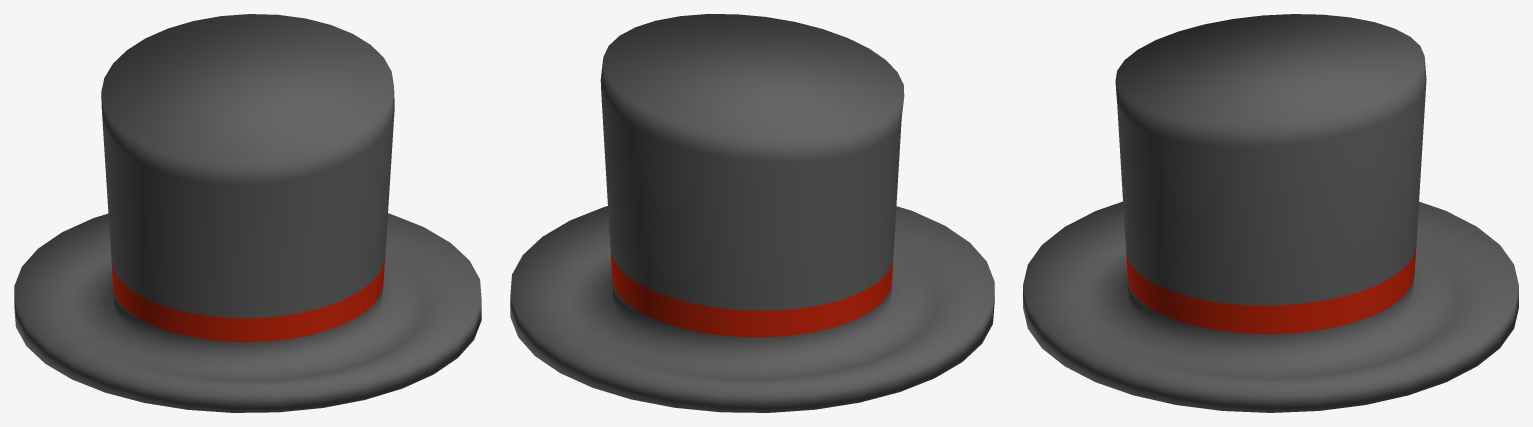
File: hat.fbx
The picture shows the model from 3 angles, left to right: view 1: azimuth 30°, elevation 25°; view 2: azimuth 150°, elevation 25°; view 3: azimuth 270°, elevation 25°; orthographic projection. The views are drawn at different scales.
Visible parts, largest first — view 1: hat; view 2: hat; view 3: hat.
Part boxes in pixels (x1,y1,x2,y2): hat: (14,14,481,412); hat: (510,14,994,412); hat: (1023,14,1518,412).
Bounding box in the file's own units: 2.06 × 1.16 × 2.06.
